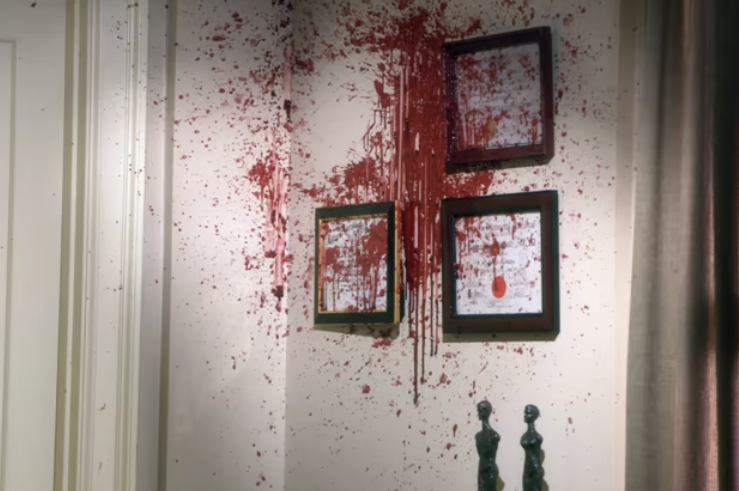blood_41.png: (84, 1, 608, 491)
